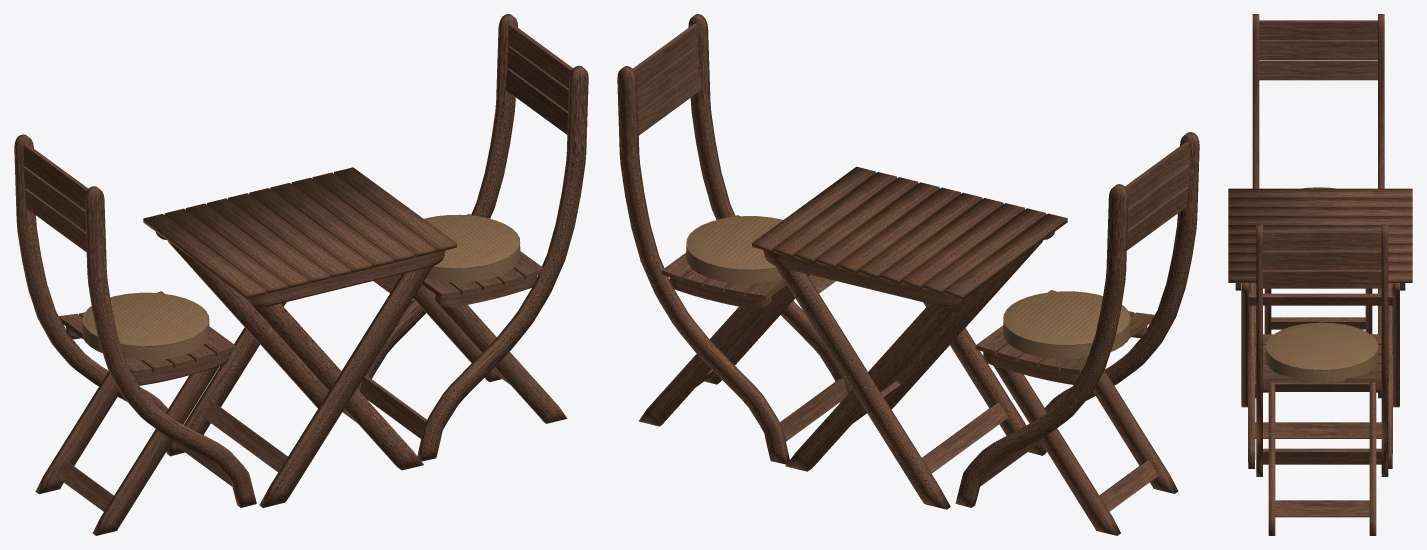
File: chair-set-1-transformed.glb
3 renders of one model, left to right at view 1: azimuth 30°, elevation 25°; view 2: azimuth 150°, elevation 25°; view 3: azimuth 270°, elevation 25°, orthographic. The views are drawn at different scales.
Visible parts, largest first — view 1: Cube.001, Cylinder.001; view 2: Cube.001, Cylinder.001; view 3: Cube.001, Cylinder.001.
Boxes of the visible parts, box(x1,y1,x2,y2) form: Cube.001: box(14, 14, 588, 535); Cylinder.001: box(82, 214, 520, 360); Cube.001: box(617, 14, 1199, 535); Cylinder.001: box(686, 216, 1130, 359); Cube.001: box(1228, 14, 1412, 535); Cylinder.001: box(1265, 187, 1378, 382).
Bounding box in the file's own units: 1.61 × 1.08 × 0.5749.
Materials: 2 (2 with a texture image).
